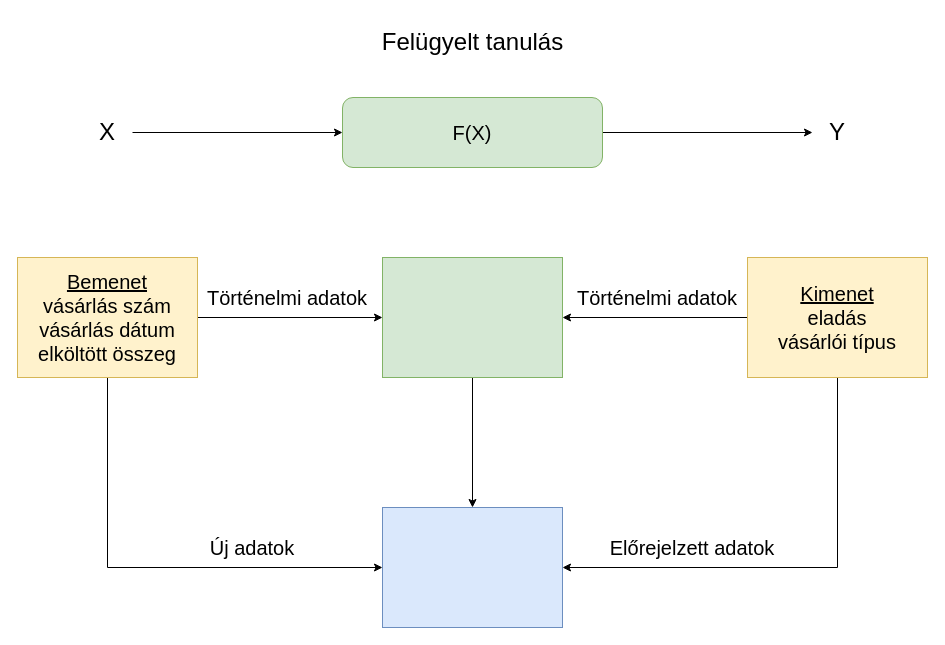
The diagram is 945 pixels wide and 645 high, and some of its shapes have lost their labels. Here are the shapes that lost their labels. From the top down, the centre of each, then its label:
At pixel 472 317: "Felügyelt tanulási algoritmus".
At pixel 472 567: "Modell".
